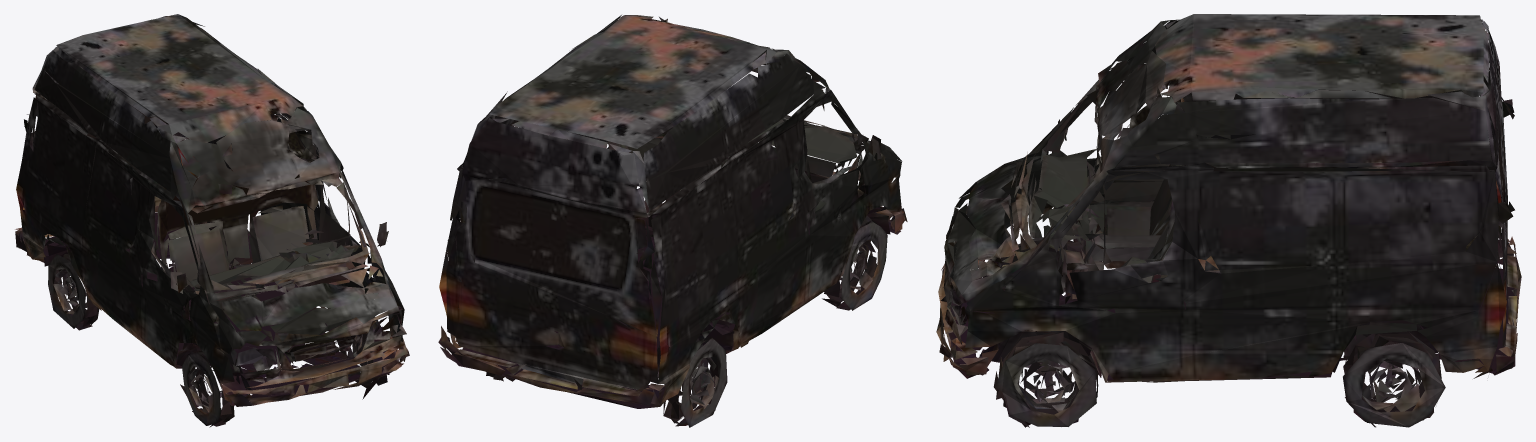
The model's file is van_wreck.glb.
The picture shows the model from 3 angles, left to right: view 1: azimuth 30°, elevation 25°; view 2: azimuth 150°, elevation 25°; view 3: azimuth 270°, elevation 25°; orthographic projection. The views are drawn at different scales.
Visible parts, largest first — view 1: world; view 2: world; view 3: world.
Part boxes in pixels (x1,y1,x2,y2): world: (15,14,409,427); world: (438,15,907,427); world: (936,14,1521,427).
Size of the model in its own units: 1.1 by 1.26 by 2.
1 material, 1 textured.
